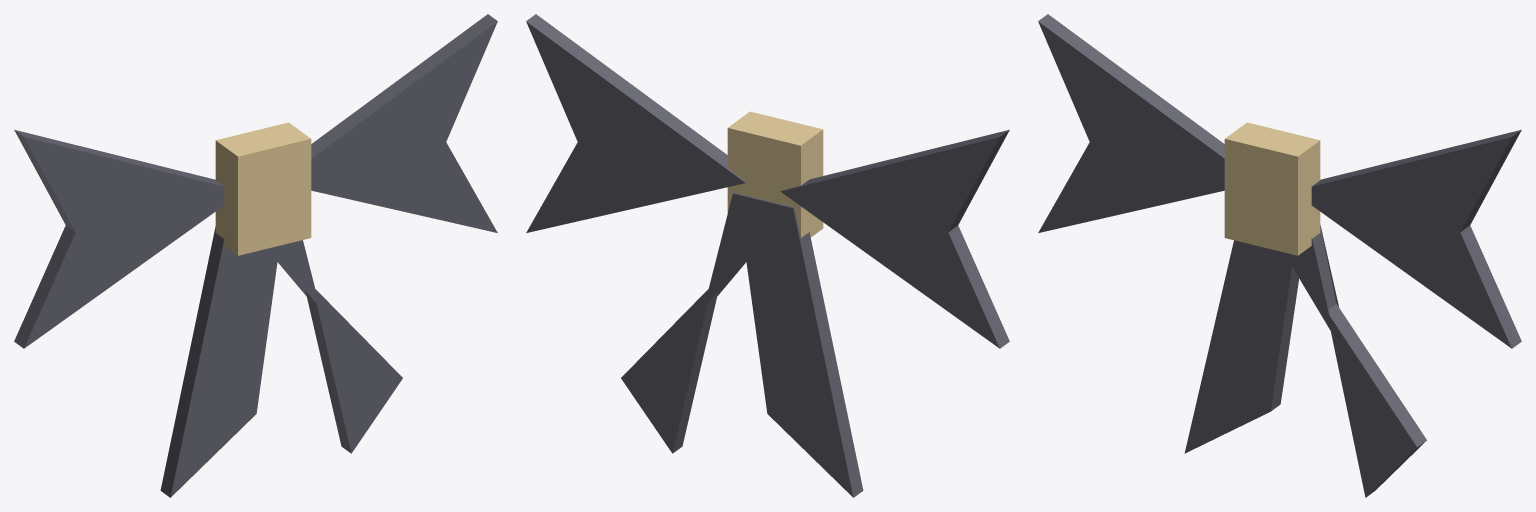
The model's file is ACC_Bow_Black.glb.
The picture shows the model from 3 angles, left to right: view 1: azimuth 30°, elevation 25°; view 2: azimuth 150°, elevation 25°; view 3: azimuth 330°, elevation 25°; orthographic projection.
Parts seen in each view (by area): view 1: ACC_Bow_Black_1, ACC_Bow_Black_2, ACC_Bow_Black_3, ACC_Bow_Black_5, ACC_Bow_Black_4; view 2: ACC_Bow_Black_1, ACC_Bow_Black_2, ACC_Bow_Black_3, ACC_Bow_Black_4, ACC_Bow_Black_5; view 3: ACC_Bow_Black_2, ACC_Bow_Black_1, ACC_Bow_Black_3, ACC_Bow_Black_5, ACC_Bow_Black_4.
Boxes of the visible parts, bbox=[...] form: ACC_Bow_Black_1: bbox=[14, 129, 224, 348]; ACC_Bow_Black_2: bbox=[311, 14, 497, 232]; ACC_Bow_Black_3: bbox=[160, 227, 277, 497]; ACC_Bow_Black_5: bbox=[215, 122, 311, 255]; ACC_Bow_Black_4: bbox=[270, 240, 402, 453]; ACC_Bow_Black_1: bbox=[780, 129, 1009, 348]; ACC_Bow_Black_2: bbox=[526, 14, 746, 232]; ACC_Bow_Black_3: bbox=[737, 193, 863, 497]; ACC_Bow_Black_4: bbox=[621, 192, 788, 453]; ACC_Bow_Black_5: bbox=[727, 111, 823, 237]; ACC_Bow_Black_2: bbox=[1311, 129, 1521, 348]; ACC_Bow_Black_1: bbox=[1038, 14, 1224, 232]; ACC_Bow_Black_3: bbox=[1184, 240, 1299, 453]; ACC_Bow_Black_5: bbox=[1224, 122, 1320, 255]; ACC_Bow_Black_4: bbox=[1292, 225, 1426, 497].
Bounding box in the file's own units: 0.11 × 0.088 × 0.0095.
